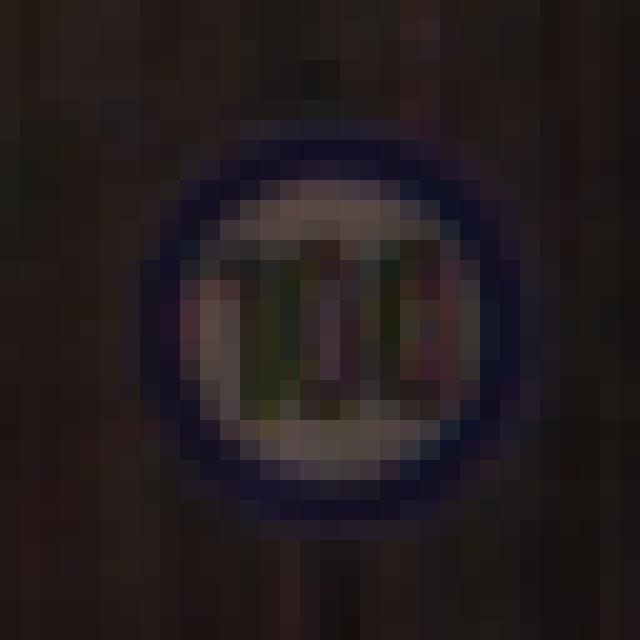SPEED LIMIT 100: (127, 133, 509, 515)
